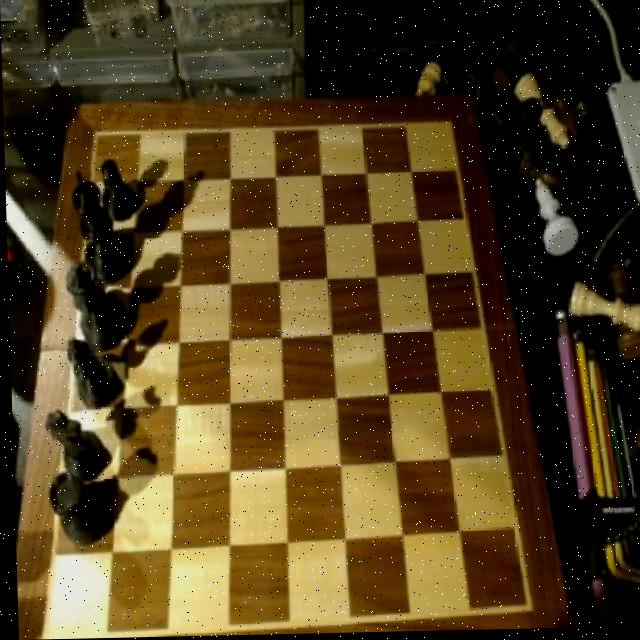bishop: (58, 333, 116, 416)
black-bishop: (64, 173, 125, 287)
black-king: (38, 409, 104, 483)
black-knight: (95, 156, 133, 221)
black-pawn: (63, 262, 124, 354)
black-queen: (45, 475, 101, 551)
